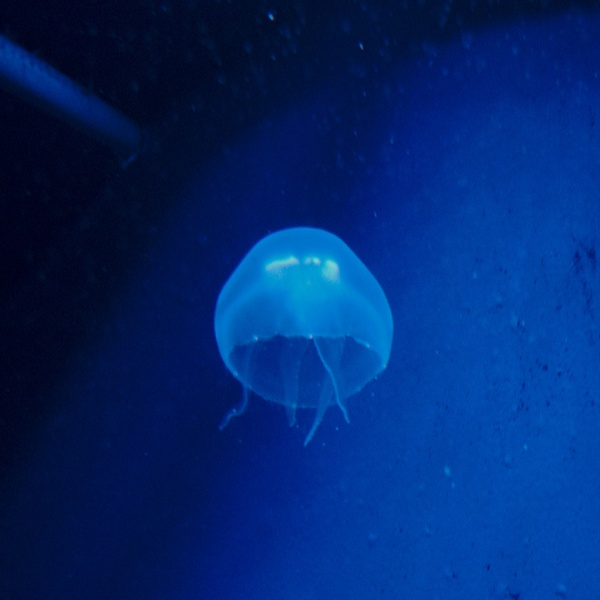Jellyfish: (217, 224, 397, 451)
